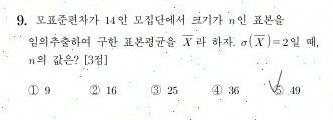choice: (268, 80, 284, 96)
not-choice: (25, 83, 40, 97), (87, 83, 101, 96), (148, 83, 162, 96), (210, 83, 223, 96)
